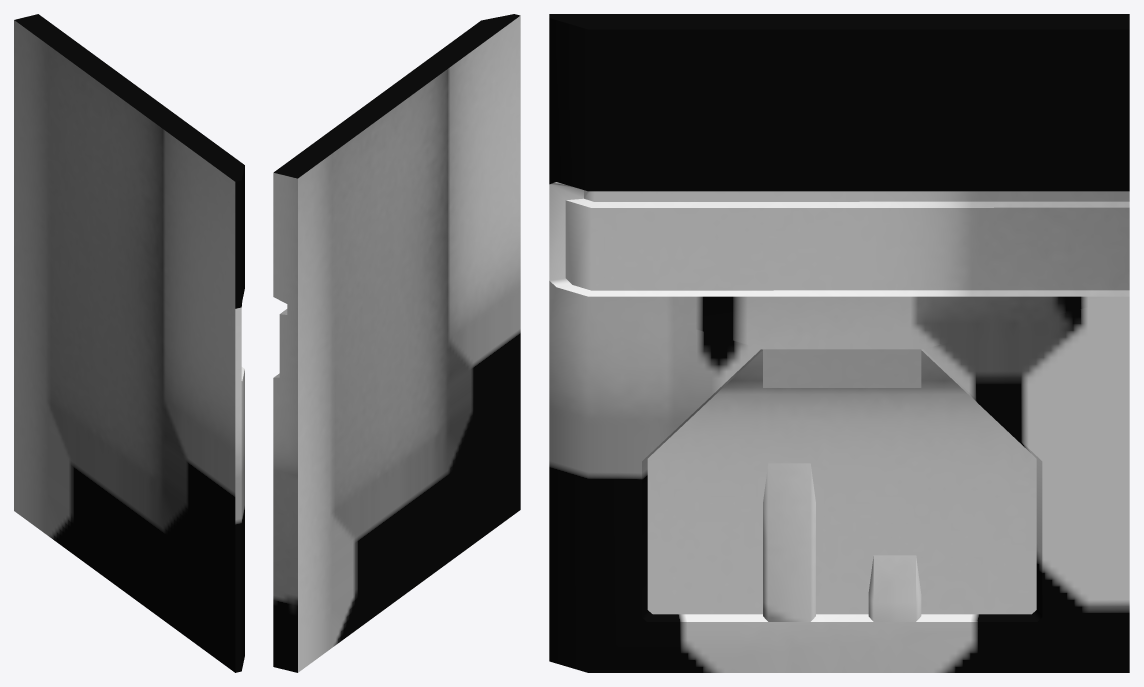
File: WF_Main_gate.fbx
3 views of the same model, side by side, from view 1: azimuth 30°, elevation 25°; view 2: azimuth 150°, elevation 25°; view 3: azimuth 270°, elevation 25° (orthographic). The views are drawn at different scales.
Visible parts, largest first — view 1: WF_Main_gate; view 2: WF_Main_gate; view 3: WF_Main_gate.
Boxes of the visible parts, x1,y1,x2,y2 form: WF_Main_gate: (14,14,244,672); WF_Main_gate: (273,14,520,672); WF_Main_gate: (549,14,1129,672).
Bounding box in the file's own units: 3.39 × 65.32 × 53.36.
